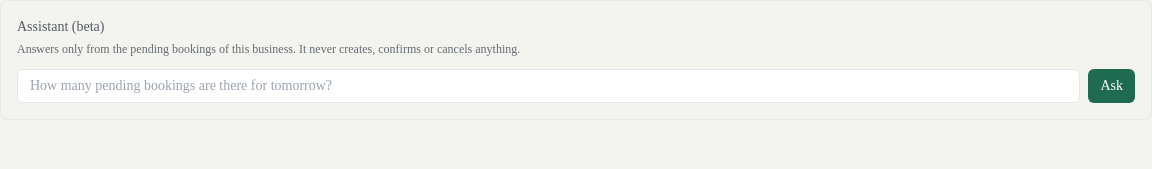
Scenario: AiAssistBox › says the assistant is temporarily unavailable when a 503 has no message, not that it is unconfigured
Type "How many are pending tomorrow?" into the field named "Question for the assistant" at (549, 86), box [17,69,1080,103]
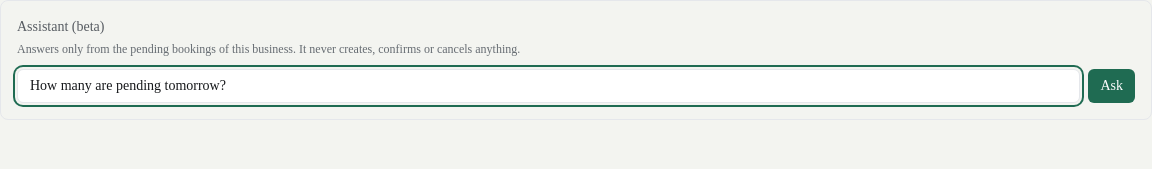
Click the button "Ask" at (1112, 86), box [1088,69,1135,103]
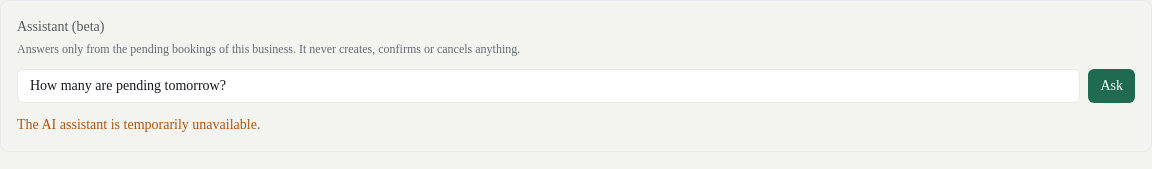
Check: the message does not show "not configured", box [17,117,260,132]
Check: the message reads "The AI assistant is temporarily unavailable.", box [17,117,260,132]
